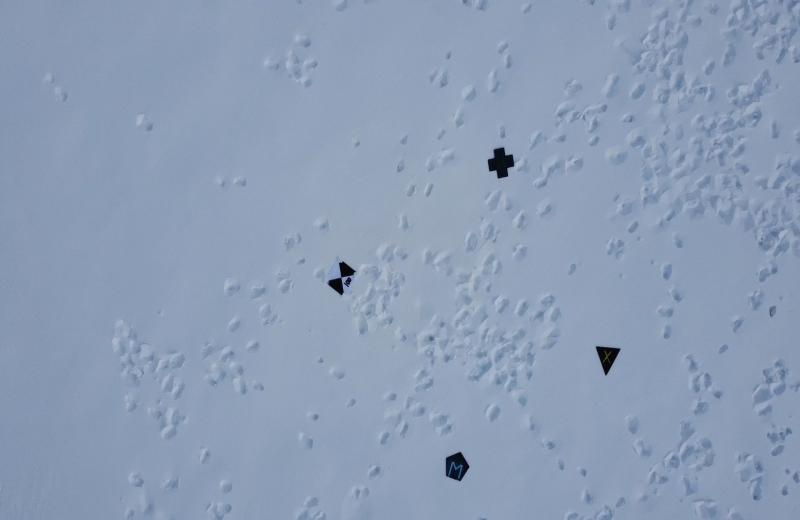Cross: (485, 145, 516, 181)
Pentagon: (441, 446, 473, 481)
Triangle: (590, 338, 624, 380)
